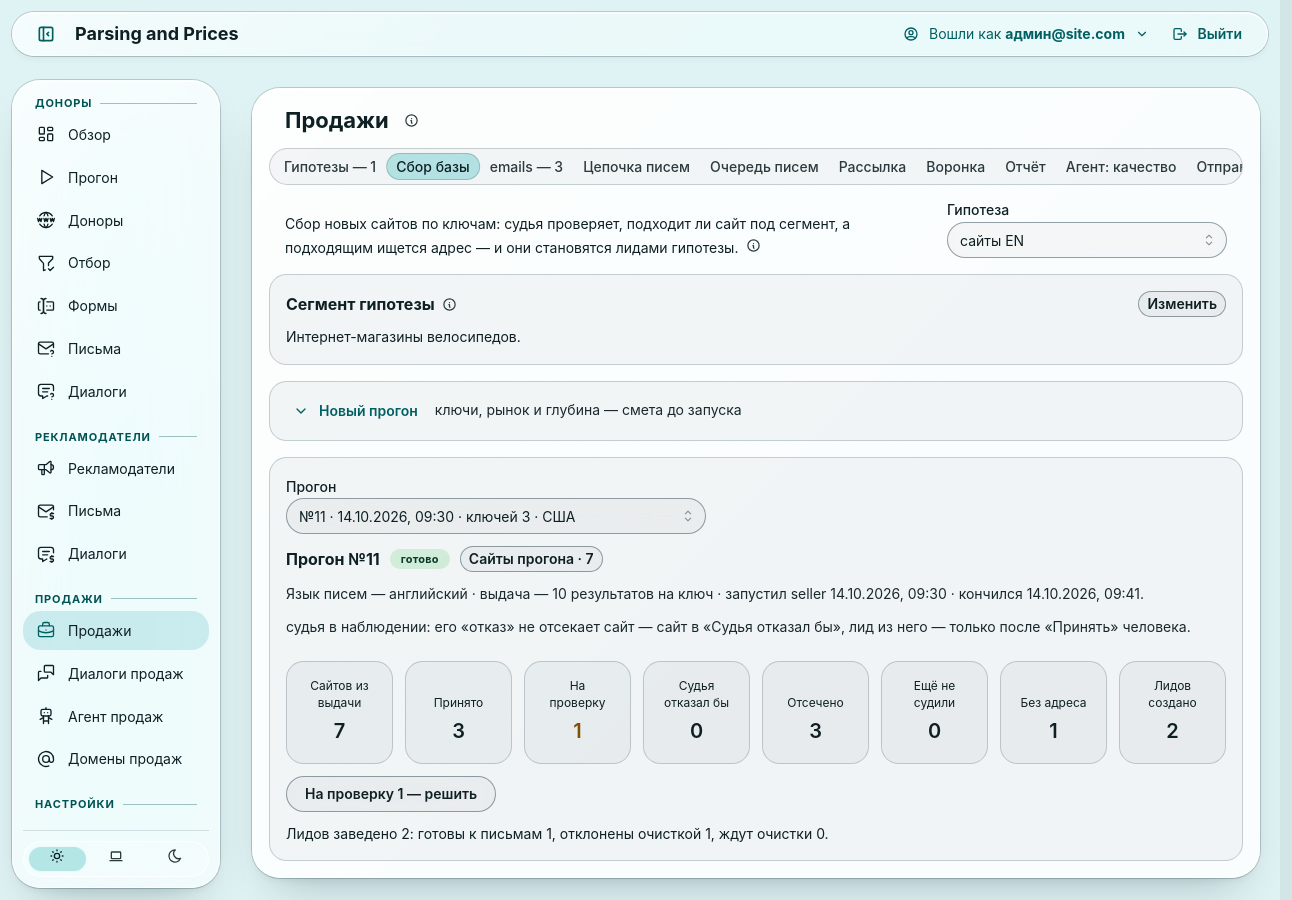
it: сбор базы: ход прогона — экран › ?run=N открывает тот прогон, а выбор в списке пишет его в адрес
The width and height of the screenshot is (1292, 900).
expect the heading "Сегмент гипотезы" is shown: met, box left=286, top=292, right=435, bottom=316
expect the heading "Прогон №11" is shown: met, box left=286, top=547, right=380, bottom=571
Click the field labelled "Прогон" at [496, 516], box left=286, top=498, right=706, bottom=534
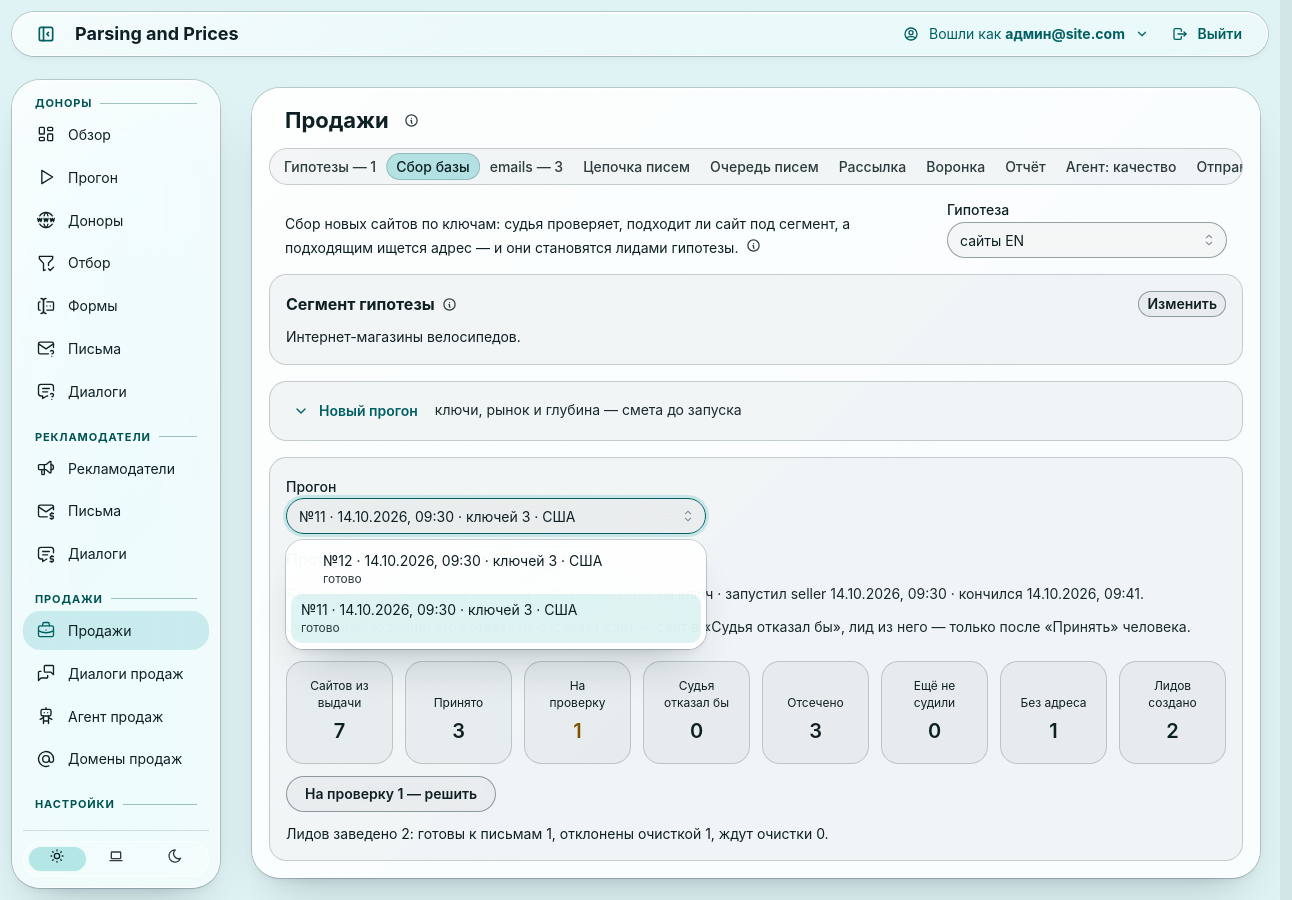
expect the option "№12 · 14.10.2026, 09:30 · ключей 3 · США готово" is shown: met
Click the option "№12 · 14.10.2026, 09:30 · ключей 3 · США готово" at [463, 570], box left=323, top=552, right=602, bottom=587
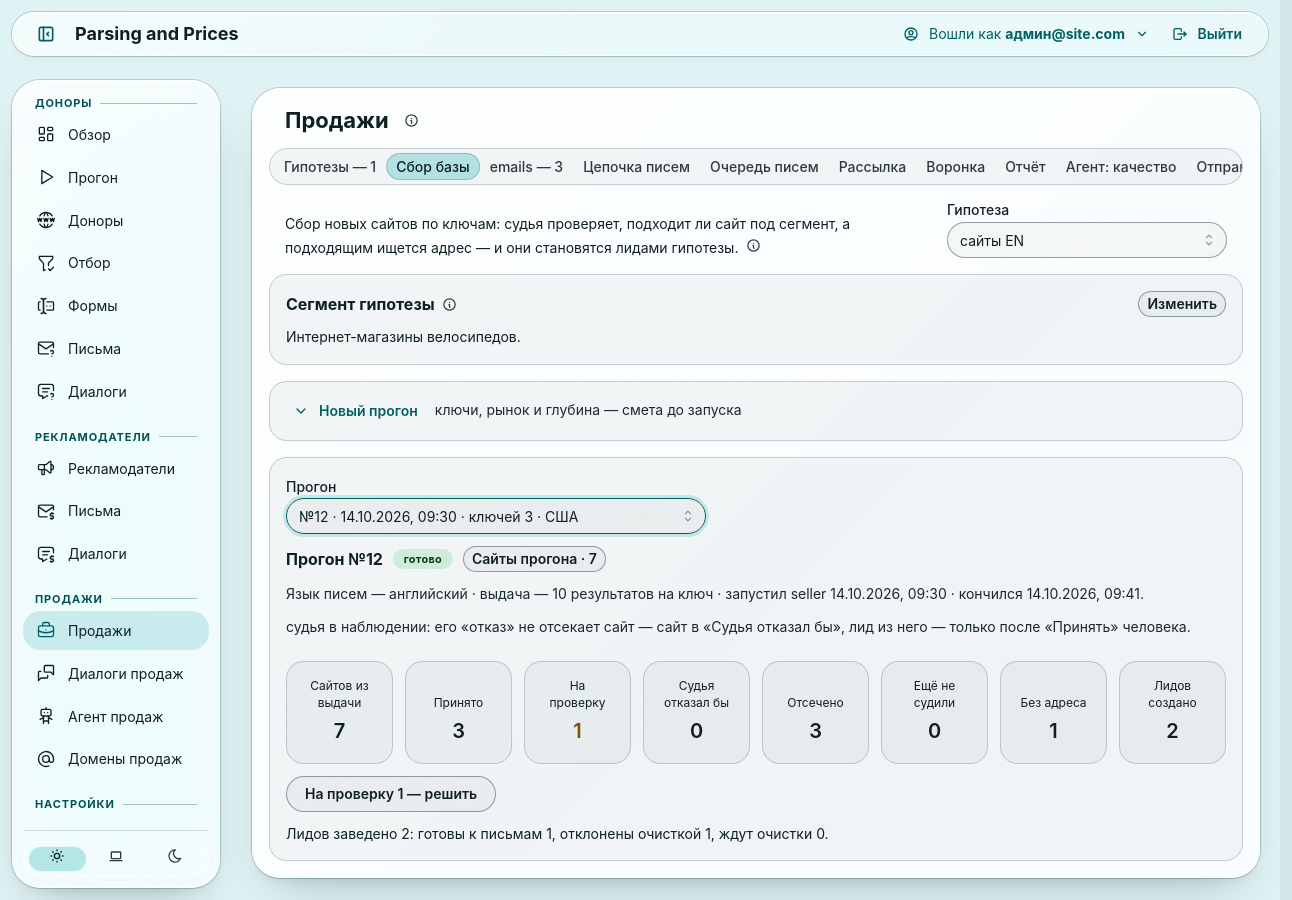
expect the heading "Прогон №12" is shown: met, box left=286, top=547, right=383, bottom=571
